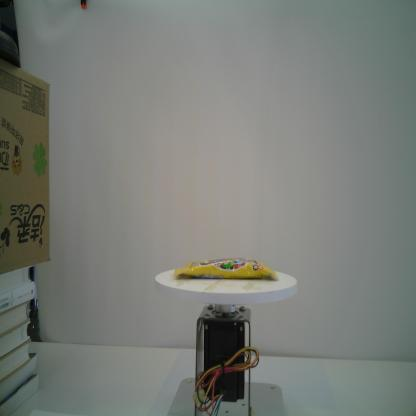Chocolate: (173, 256, 279, 281)
